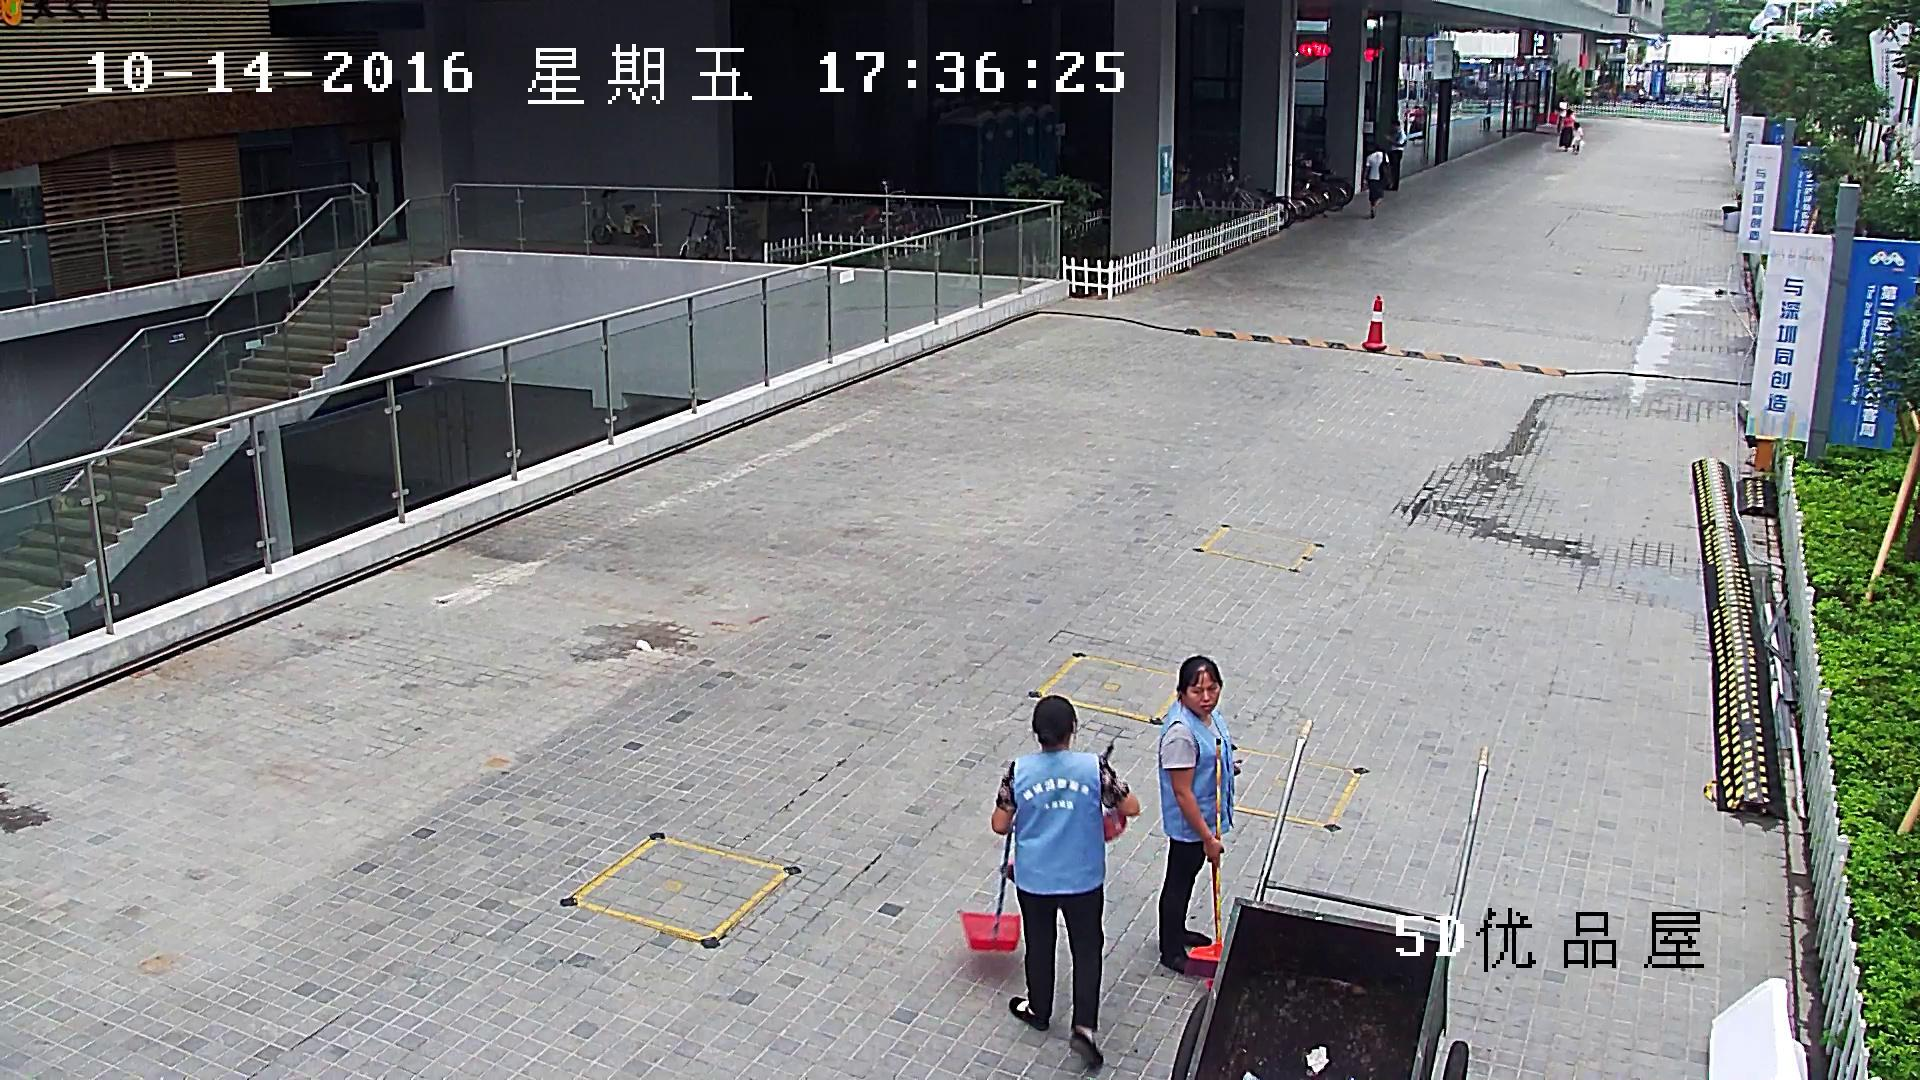person: (959, 693, 1141, 1064), (991, 694, 1140, 1065), (1156, 652, 1242, 976), (1157, 653, 1241, 974), (1363, 145, 1392, 218), (1387, 120, 1405, 190), (1559, 109, 1575, 150), (1556, 97, 1568, 133), (1573, 122, 1583, 153)
